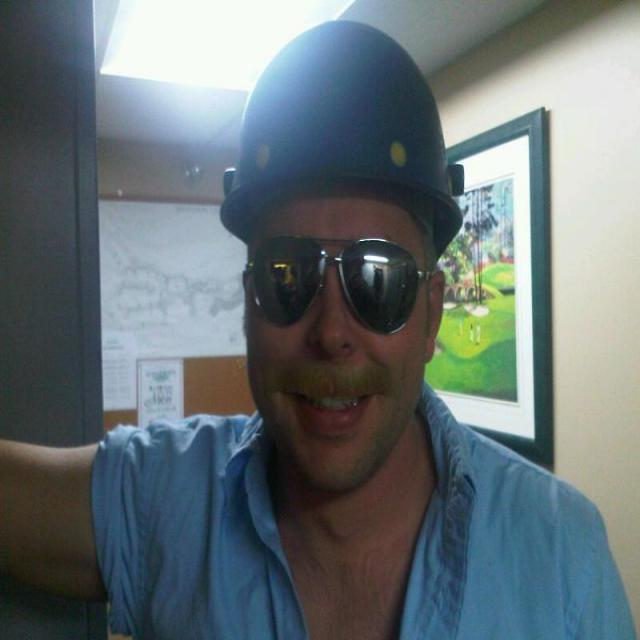hat: (219, 17, 466, 240)
